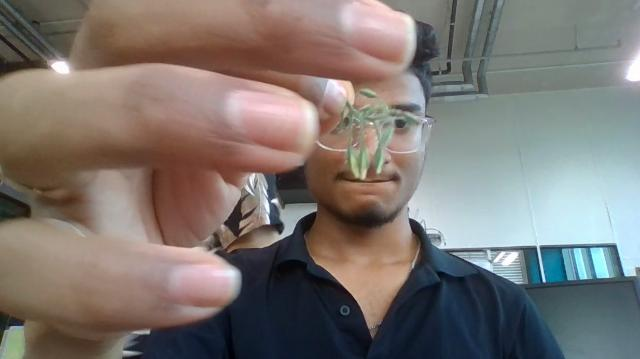Flower Bud: (373, 135, 387, 175), (340, 99, 358, 129), (394, 111, 423, 127), (348, 147, 362, 180), (358, 146, 369, 180), (355, 104, 375, 116)
